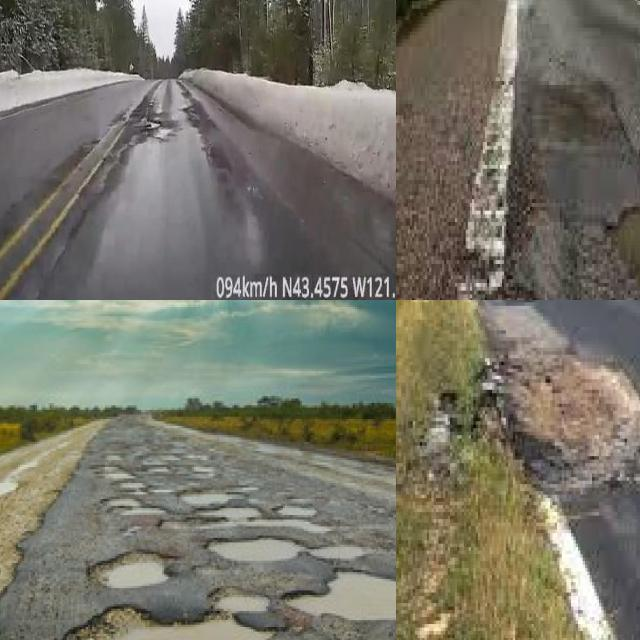Pothole: (480, 300, 640, 505), (103, 494, 366, 561), (65, 609, 270, 640), (289, 572, 396, 620), (88, 552, 166, 590), (613, 207, 640, 286), (181, 103, 208, 126), (140, 115, 162, 130), (153, 127, 172, 139), (139, 128, 152, 137)
